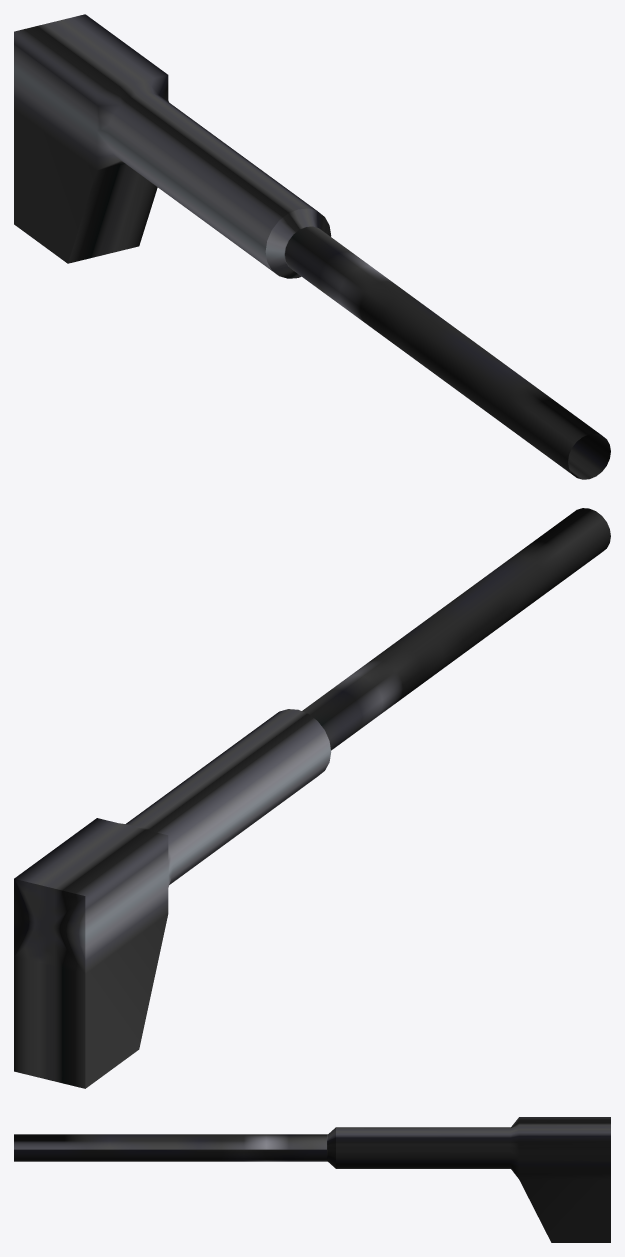
File: ball_gun1.obj
3 renders of one model, top to bottom at view 1: azimuth 30°, elevation 25°; view 2: azimuth 150°, elevation 25°; view 3: azimuth 270°, elevation 25°, orthographic. The views are drawn at different scales.
Parts seen in each view (by area): view 1: pCylinder6; view 2: pCylinder6; view 3: pCylinder6.
Part boxes in pixels (x1,y1,x2,y2): pCylinder6: (14, 14, 610, 479); pCylinder6: (14, 508, 610, 1088); pCylinder6: (14, 1117, 610, 1242).
Bounding box in the file's own units: 0.3962 × 1.02 × 5.19.
